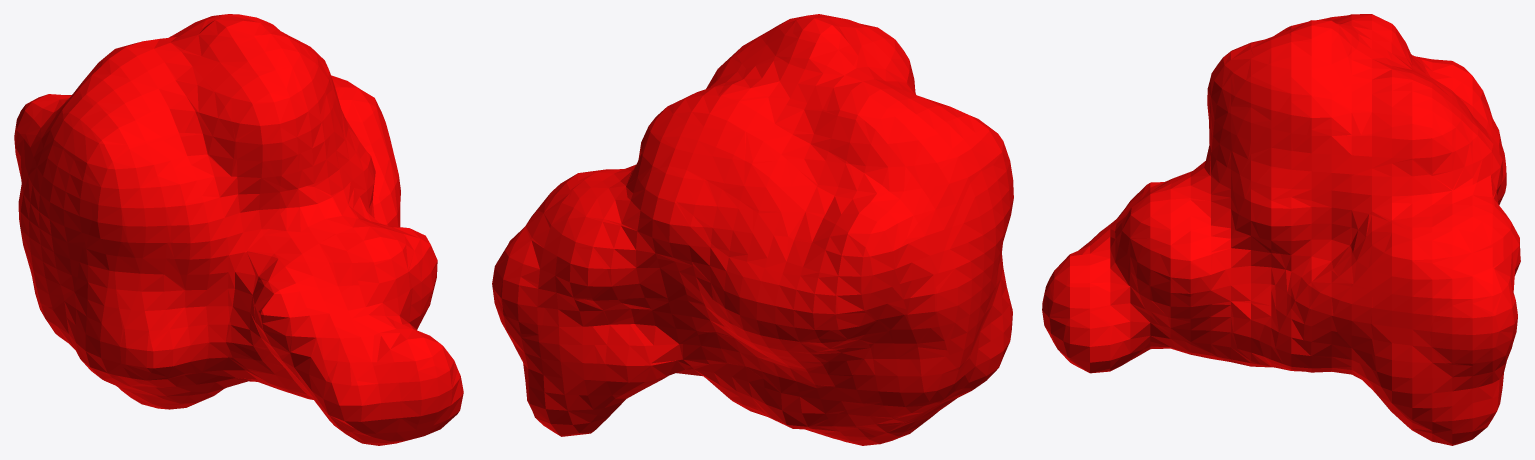
Rendered from yhbT_coarse.dae.
The picture shows the model from 3 angles, left to right: view 1: azimuth 30°, elevation 25°; view 2: azimuth 150°, elevation 25°; view 3: azimuth 270°, elevation 25°; orthographic projection. The views are drawn at different scales.
Visible parts, largest first — view 1: yhbT; view 2: yhbT; view 3: yhbT.
Part boxes in pixels (<box>): yhbT: <box>14,14,463,445</box>; yhbT: <box>492,14,1013,445</box>; yhbT: <box>1042,14,1520,445</box>.
Size of the model in its own units: 46.06 by 42.05 by 52.23.
